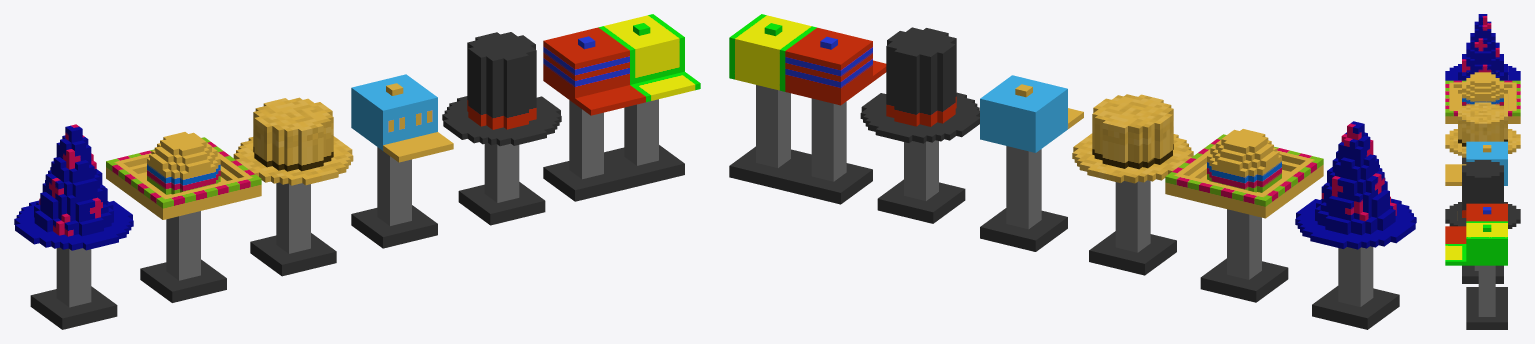
File: Hats.fbx
The picture shows the model from 3 angles, left to right: view 1: azimuth 30°, elevation 25°; view 2: azimuth 150°, elevation 25°; view 3: azimuth 270°, elevation 25°; orthographic projection. The views are drawn at different scales.
Parts seen in each view (by area): view 1: Magician_Hat, Mexican_Hat, Wizzard_Hat, Cowboy_Hat, Blue_Hat, Red_Hat, Yellow_Hat; view 2: Magician_Hat, Mexican_Hat, Wizzard_Hat, Cowboy_Hat, Blue_Hat, Red_Hat, Yellow_Hat; view 3: Yellow_Hat, Magician_Hat, Mexican_Hat, Cowboy_Hat, Wizzard_Hat, Red_Hat, Blue_Hat.
Boxes of the visible parts, <box> form: Magician_Hat: <box>442,32,561,225</box>; Mexican_Hat: <box>106,132,261,302</box>; Wizzard_Hat: <box>14,124,133,329</box>; Cowboy_Hat: <box>233,97,353,276</box>; Blue_Hat: <box>351,74,453,248</box>; Red_Hat: <box>543,27,645,201</box>; Yellow_Hat: <box>598,14,700,188</box>; Magician_Hat: <box>860,27,979,223</box>; Mexican_Hat: <box>1165,129,1323,302</box>; Wizzard_Hat: <box>1295,121,1416,329</box>; Cowboy_Hat: <box>1072,94,1193,275</box>; Blue_Hat: <box>980,75,1083,251</box>; Red_Hat: <box>785,27,886,204</box>; Yellow_Hat: <box>729,14,816,190</box>; Yellow_Hat: <box>1445,221,1507,329</box>; Magician_Hat: <box>1445,160,1520,283</box>; Mexican_Hat: <box>1445,72,1520,164</box>; Cowboy_Hat: <box>1445,102,1520,157</box>; Wizzard_Hat: <box>1445,14,1520,80</box>; Red_Hat: <box>1445,203,1507,304</box>; Blue_Hat: <box>1445,141,1507,185</box>.
Size of the model in its own units: 118 by 32 by 18.
Materials: 1 (1 with a texture image).
